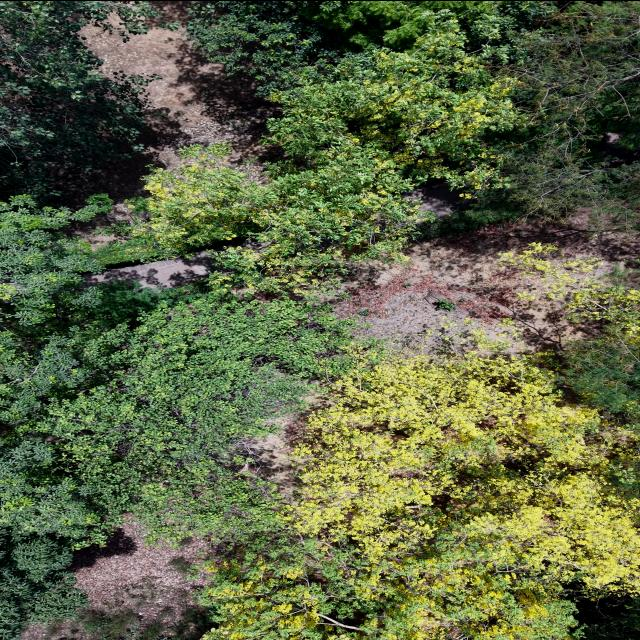DRY_AREA: (65, 1, 279, 242), (72, 1, 279, 246), (72, 1, 279, 245), (66, 21, 278, 243), (65, 1, 280, 205), (333, 212, 639, 355), (334, 210, 638, 352), (335, 211, 639, 352), (334, 211, 639, 351), (334, 212, 639, 352), (336, 212, 639, 352), (335, 212, 639, 351), (336, 212, 639, 351), (336, 218, 638, 352), (80, 24, 279, 165), (79, 21, 222, 147), (69, 516, 219, 626), (68, 518, 215, 625), (69, 516, 215, 622), (69, 523, 212, 624), (69, 523, 210, 618), (243, 411, 308, 503), (22, 608, 213, 639), (244, 415, 301, 502), (86, 252, 211, 287), (67, 203, 133, 249), (403, 180, 469, 218)
VEGETATION_TREE: (0, 1, 639, 639), (200, 249, 638, 639), (101, 1, 638, 290), (2, 197, 348, 639), (202, 355, 637, 639), (3, 285, 348, 639), (102, 13, 523, 288), (189, 1, 638, 227), (0, 1, 155, 639), (289, 356, 637, 600), (24, 293, 346, 542), (0, 196, 108, 639), (94, 147, 416, 292), (269, 21, 524, 188), (470, 1, 639, 229), (0, 1, 157, 202), (188, 1, 554, 86), (499, 243, 639, 423), (0, 196, 108, 426), (0, 438, 97, 639), (199, 540, 383, 639), (0, 435, 100, 550), (561, 295, 639, 422), (0, 528, 86, 639), (562, 310, 639, 420), (47, 608, 210, 639), (581, 597, 639, 639)
